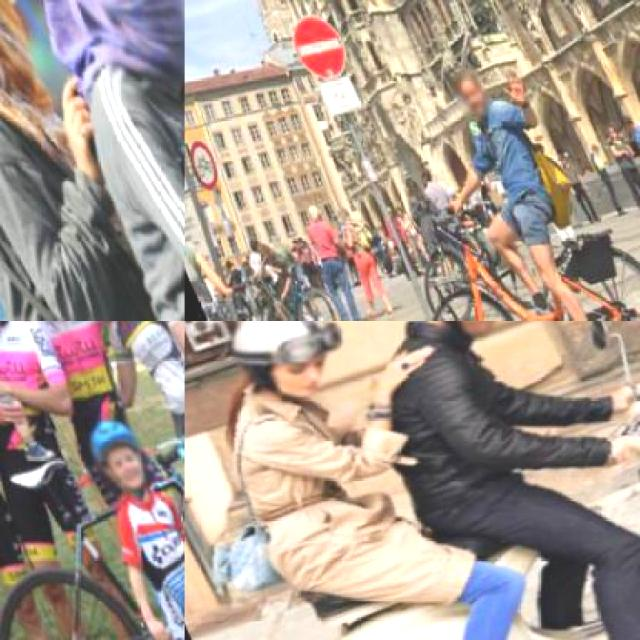With Helmet: (208, 320, 372, 418), (68, 398, 157, 498), (398, 320, 558, 352)
Without Helmet: (18, 0, 183, 112), (438, 58, 492, 118)
